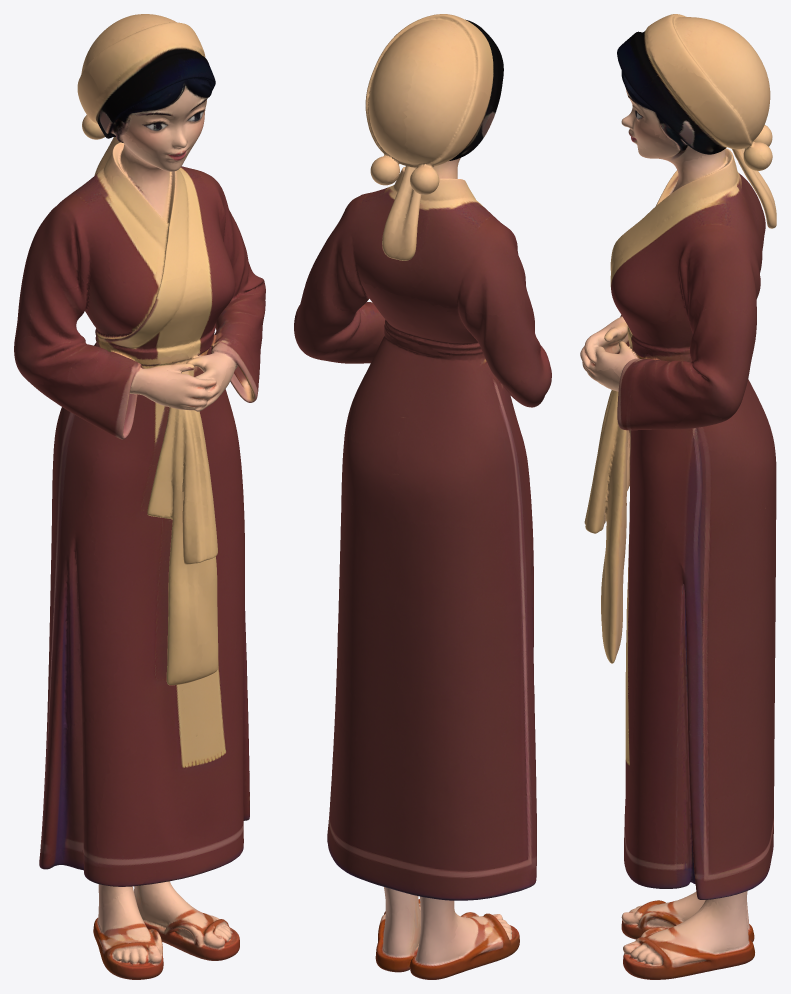
The model's file is Villager_Woman.glb.
3 views of the same model, side by side, from view 1: azimuth 30°, elevation 25°; view 2: azimuth 150°, elevation 25°; view 3: azimuth 270°, elevation 25° (orthographic).
Size of the model in its own units: 0.5257 by 1.9 by 0.3642.
1 material, 1 textured.
